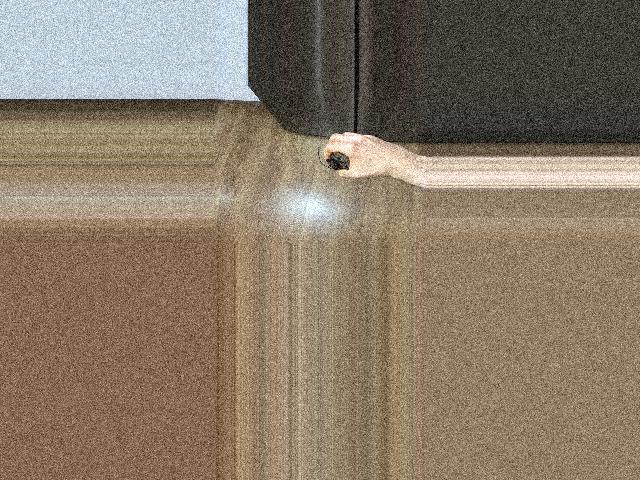beet: (316, 146, 349, 170)
